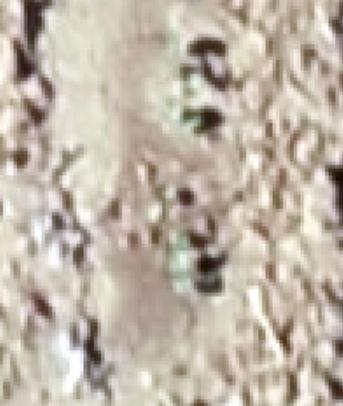cotton: (181, 109, 205, 131), (173, 260, 193, 277), (175, 236, 192, 254), (172, 42, 183, 59)
